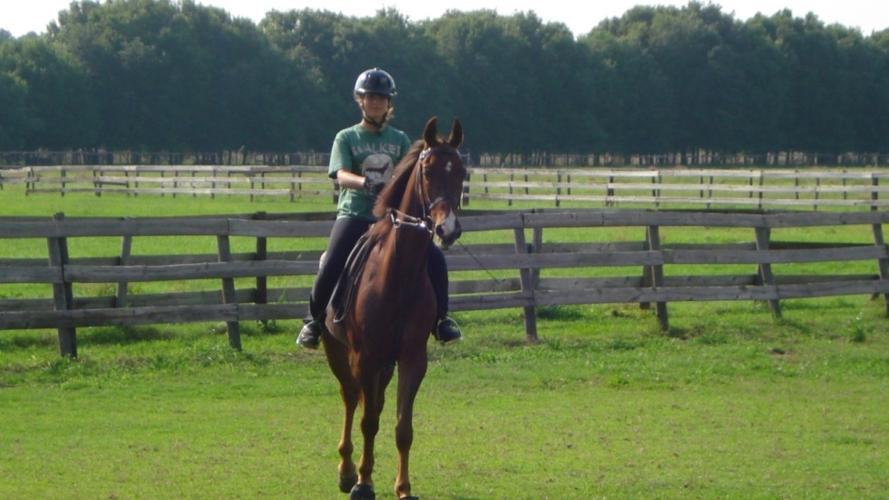person: (295, 69, 468, 356)
